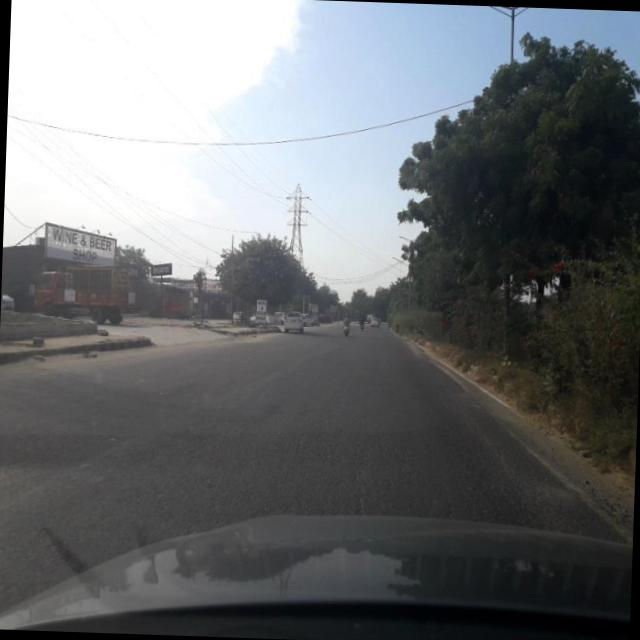crack: (254, 392, 587, 520)
